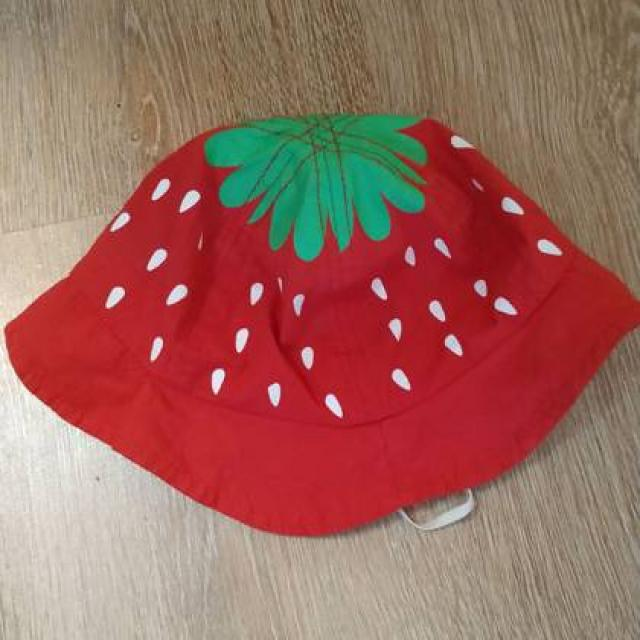Clothes -Biodegradable-: (5, 114, 640, 537)
